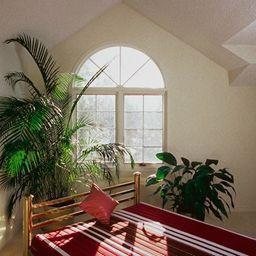Cama: (28, 181, 252, 255)
Matera: (15, 51, 80, 224), (163, 157, 216, 219)
